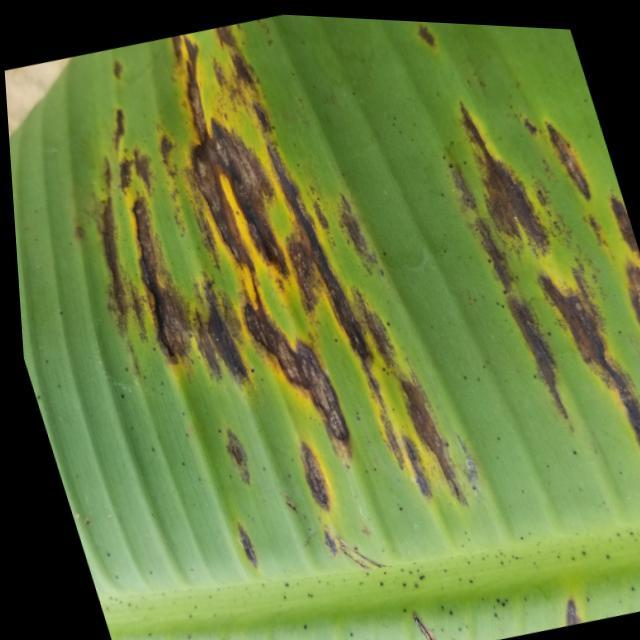Early_rust: (75, 0, 640, 564)
